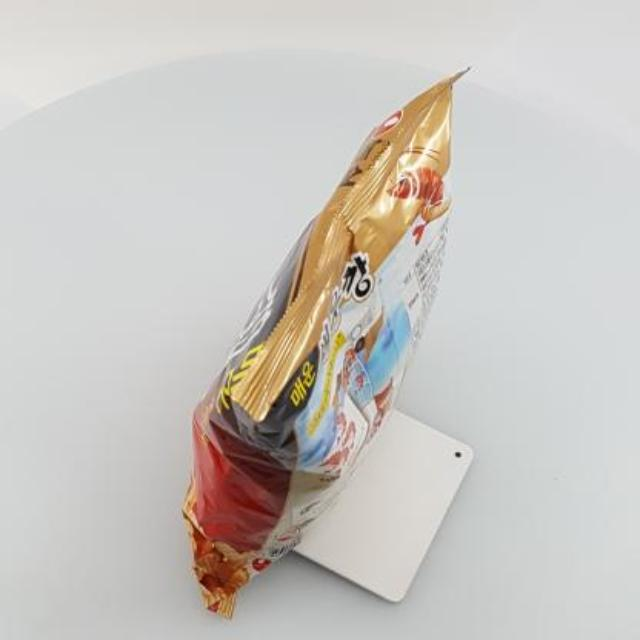snack_bag: (176, 59, 494, 625)
